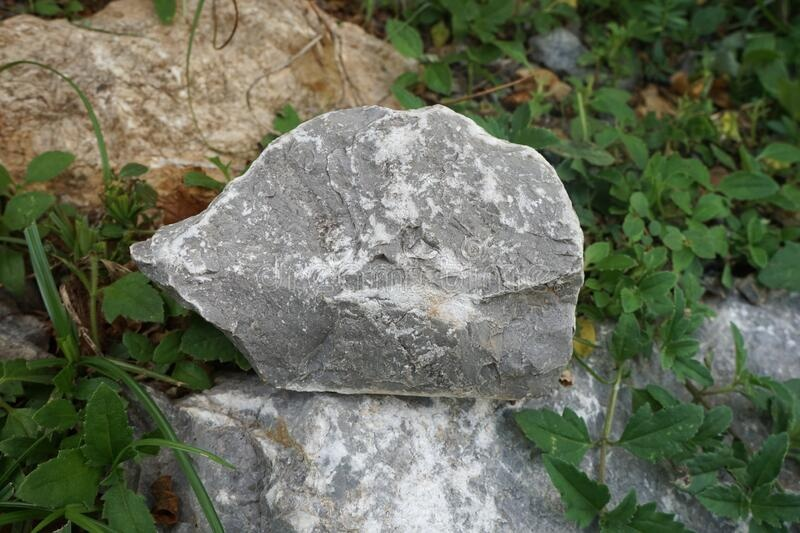obstacle: (131, 105, 582, 398)
